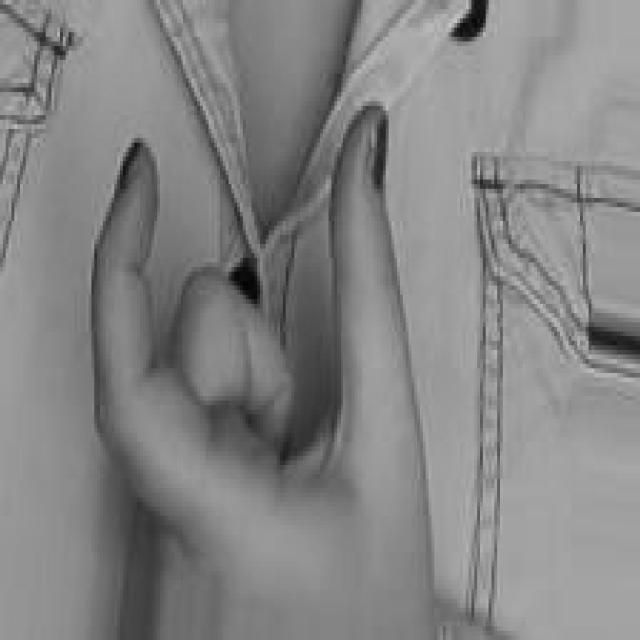U: (88, 96, 438, 640)
